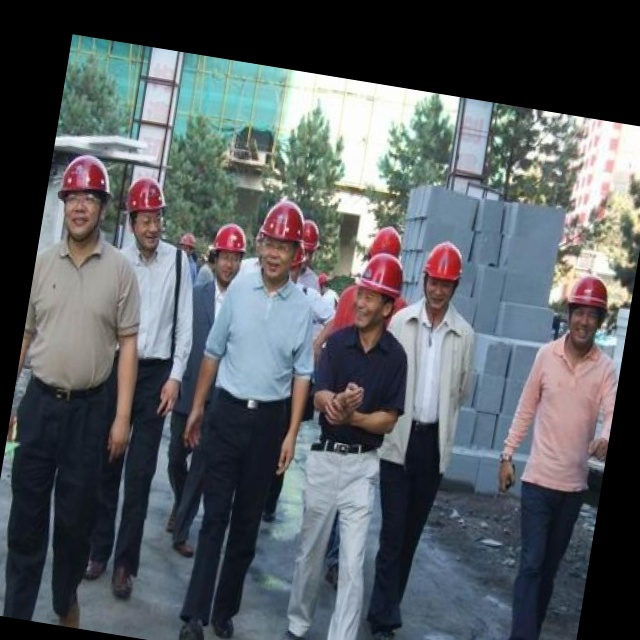Con_Casco: (50, 149, 116, 248), (416, 239, 467, 315)
Sin_Chaleco: (514, 335, 622, 488), (203, 266, 312, 414)
